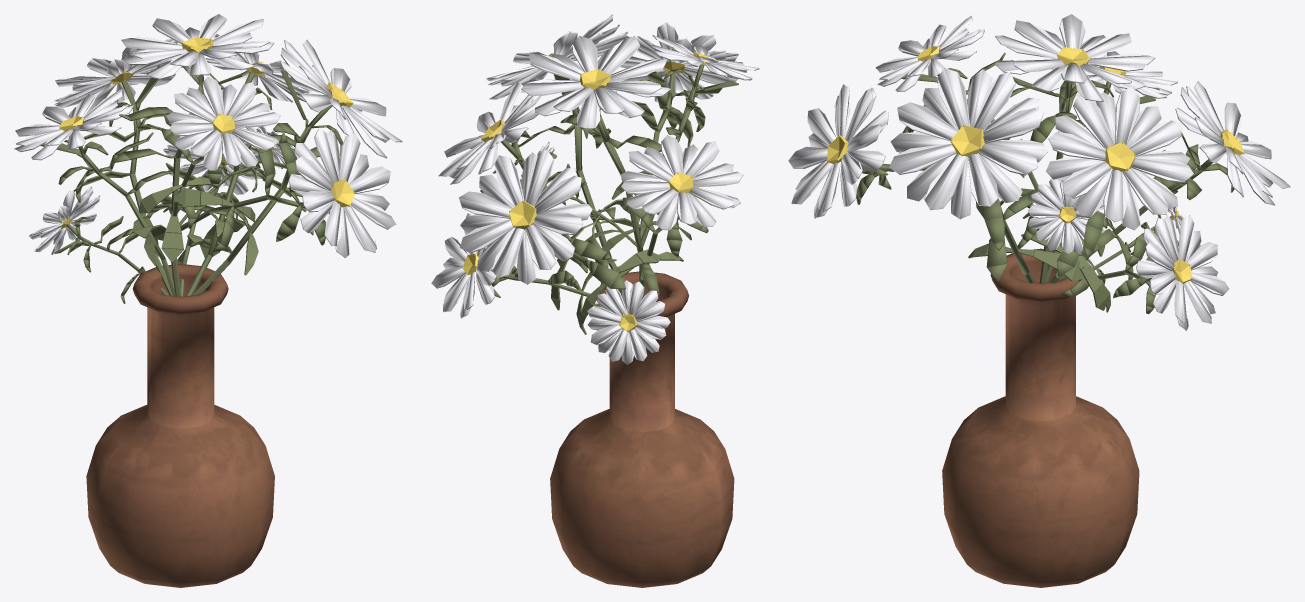
Rendered from SmallPotFlower.fbx.
3 renders of one model, left to right at view 1: azimuth 30°, elevation 25°; view 2: azimuth 150°, elevation 25°; view 3: azimuth 270°, elevation 25°, orthographic. The views are drawn at different scales.
Parts seen in each view (by area): view 1: Flower, pot_long; view 2: Flower, pot_long; view 3: Flower, pot_long.
Boxes of the visible parts, box(x1,y1,x2,y2) form: Flower: box(14, 14, 402, 303); pot_long: box(86, 263, 274, 587); Flower: box(431, 14, 759, 364); pot_long: box(550, 271, 734, 587); Flower: box(788, 14, 1290, 330); pot_long: box(942, 248, 1139, 587).
Size of the model in its own units: 51.29 by 81.2 by 68.57.
